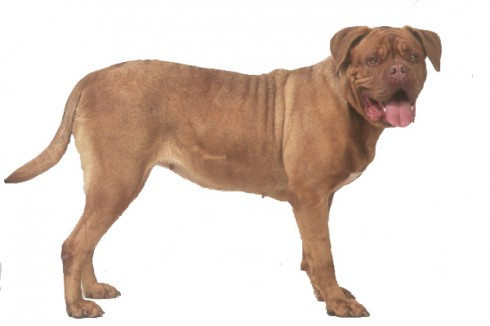dogue_de_bordeaux: (3, 25, 441, 318)
